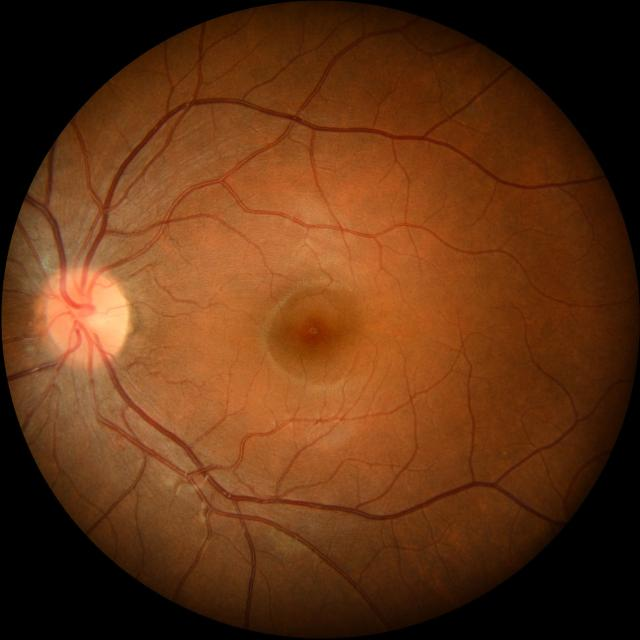OC: (81, 305, 104, 333)
OD: (45, 268, 127, 365)
